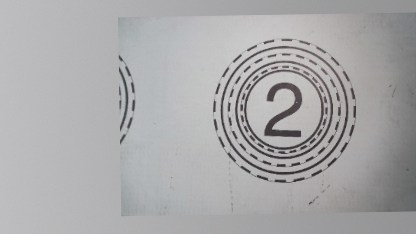2r: (210, 36, 358, 184)
